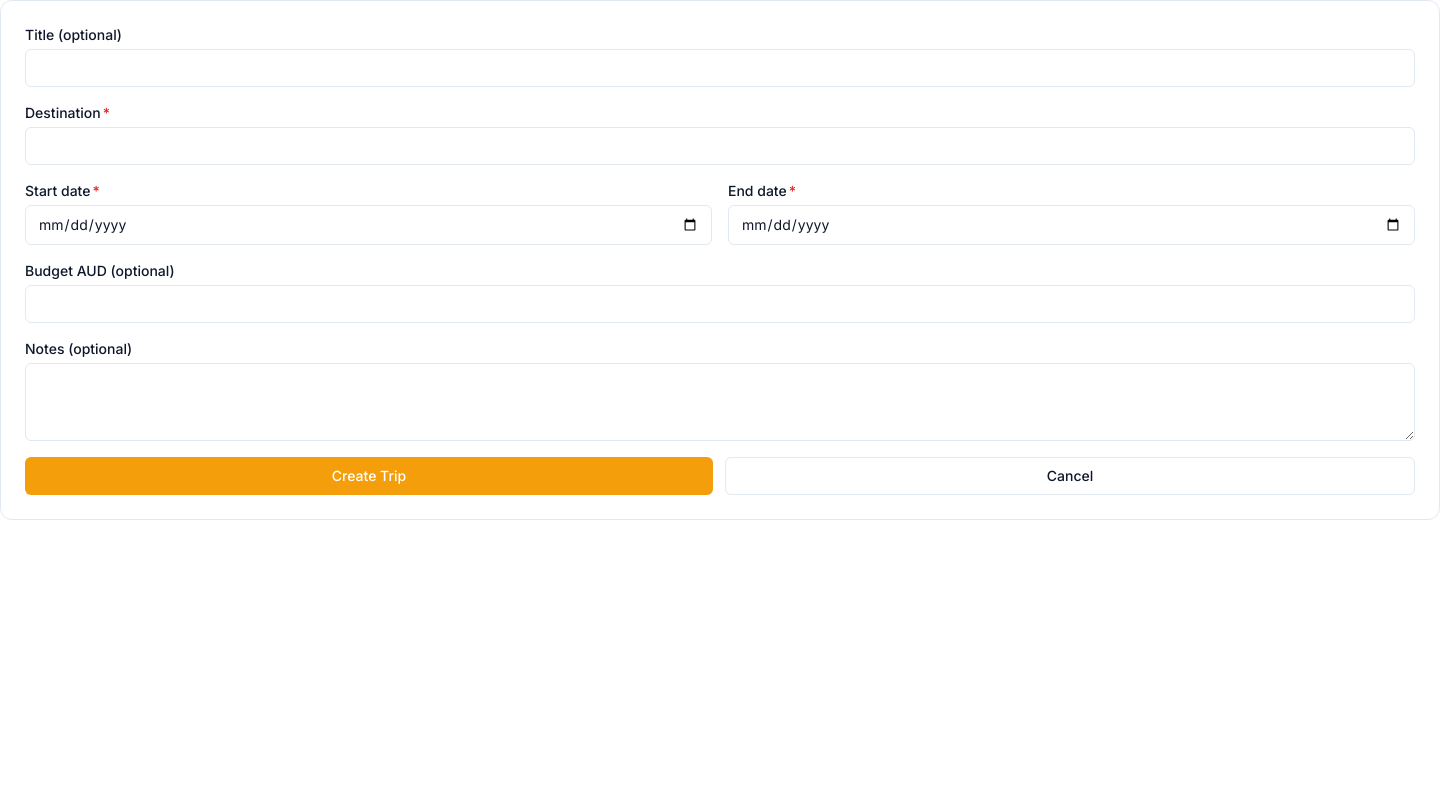
Test: TripForm › rejects submit with empty destination + shows validation error
Click the button "Create Trip". click: (369,476)
box: [25,457,713,495]
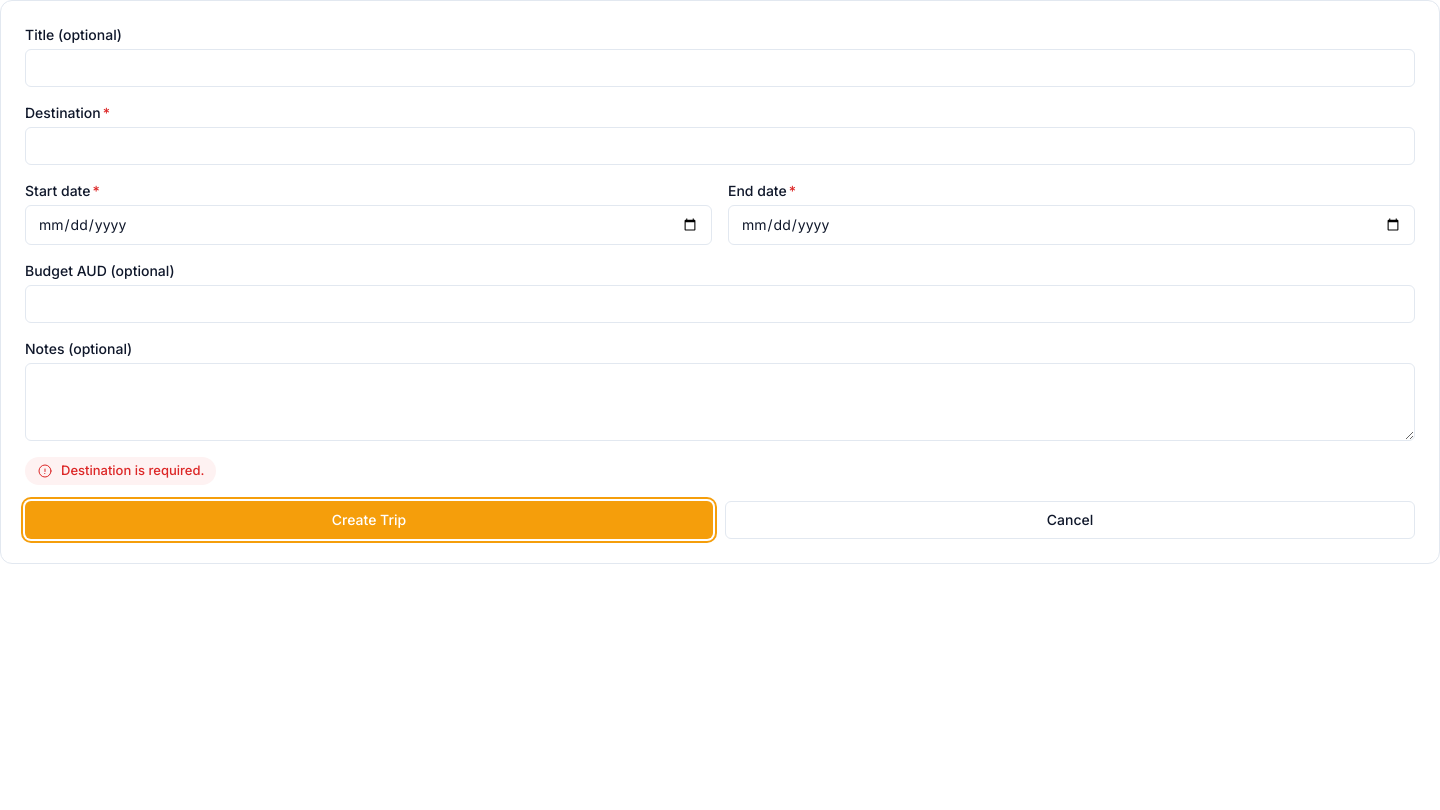
Expected: the text "Destination is required." is shown, [25,457,216,484]
